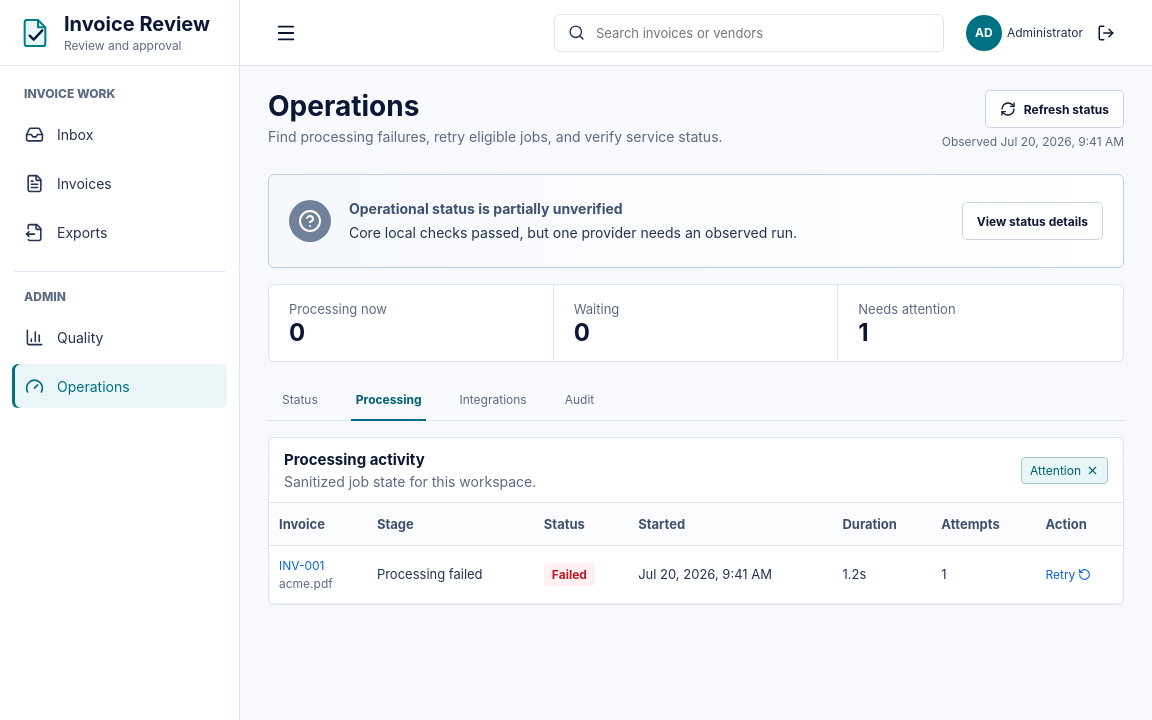
Test: system workspace › offers retry only for a failed job accepted by the backend contract
Click the button "Retry" at (1068, 574), box [1045,566,1091,582]
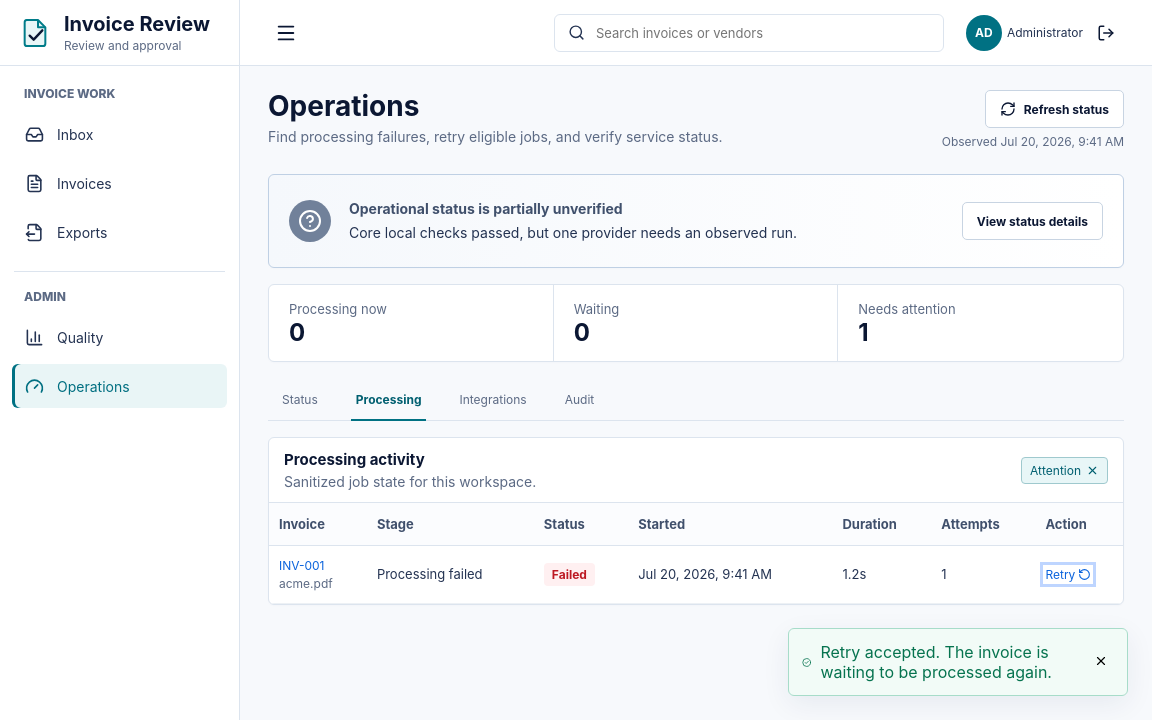
Check: the text "Retry accepted. The invoice is waiting to be processed again." is shown, box [788,628,1128,696]
